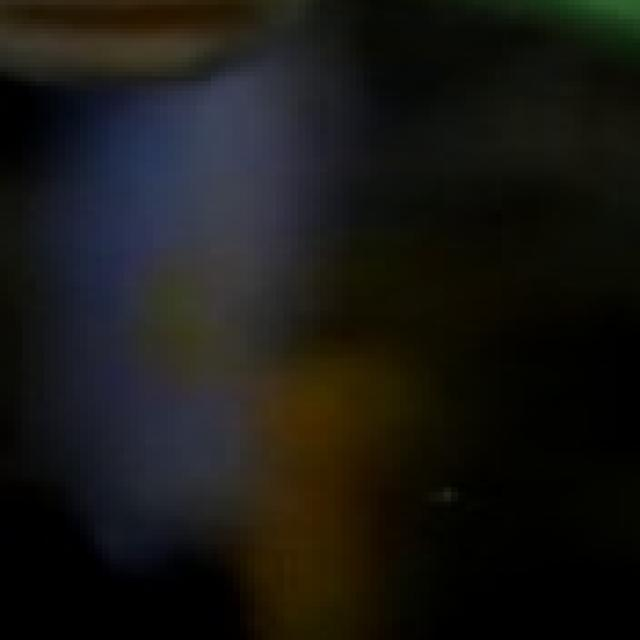fish: (0, 5, 633, 640)
